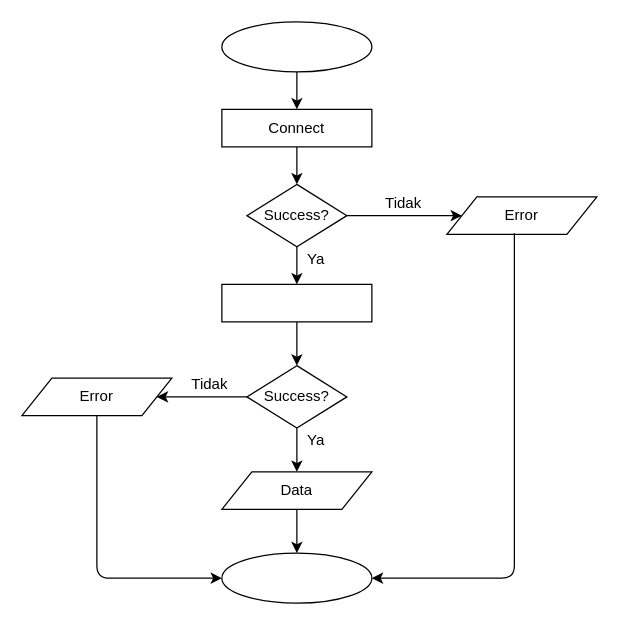
Image size: 619x625. Some labels were removed from this diagram. Here are the shapes that lost their labels. From the top down, the box of each, then its label:
(221, 21, 372, 72): Start
(221, 283, 372, 322): Get Data
(221, 552, 372, 603): End
